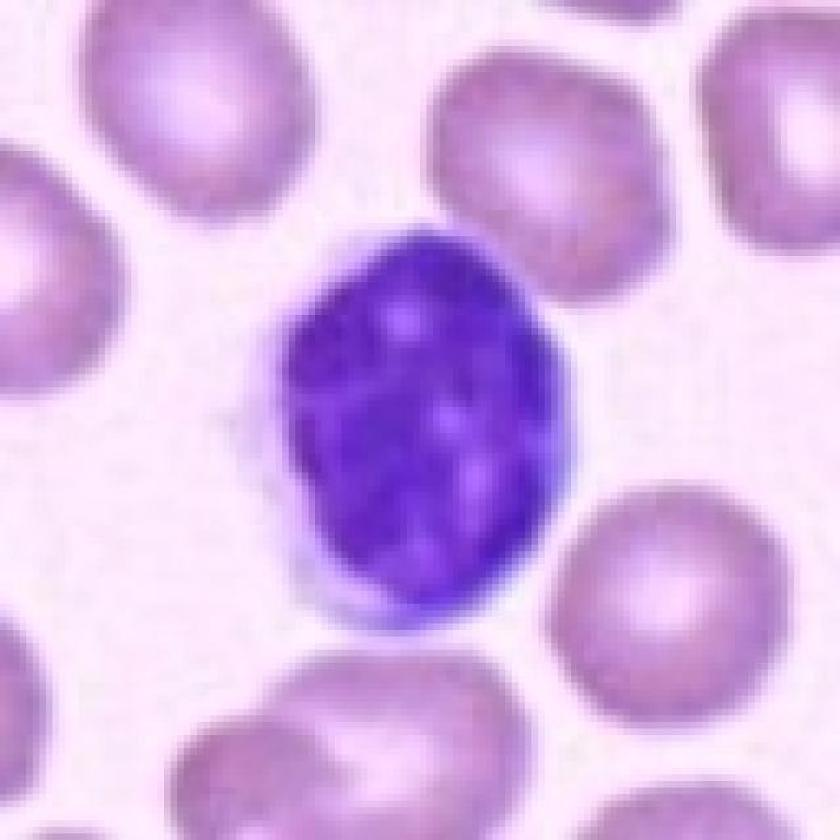lymphocyte: (234, 212, 599, 644)
